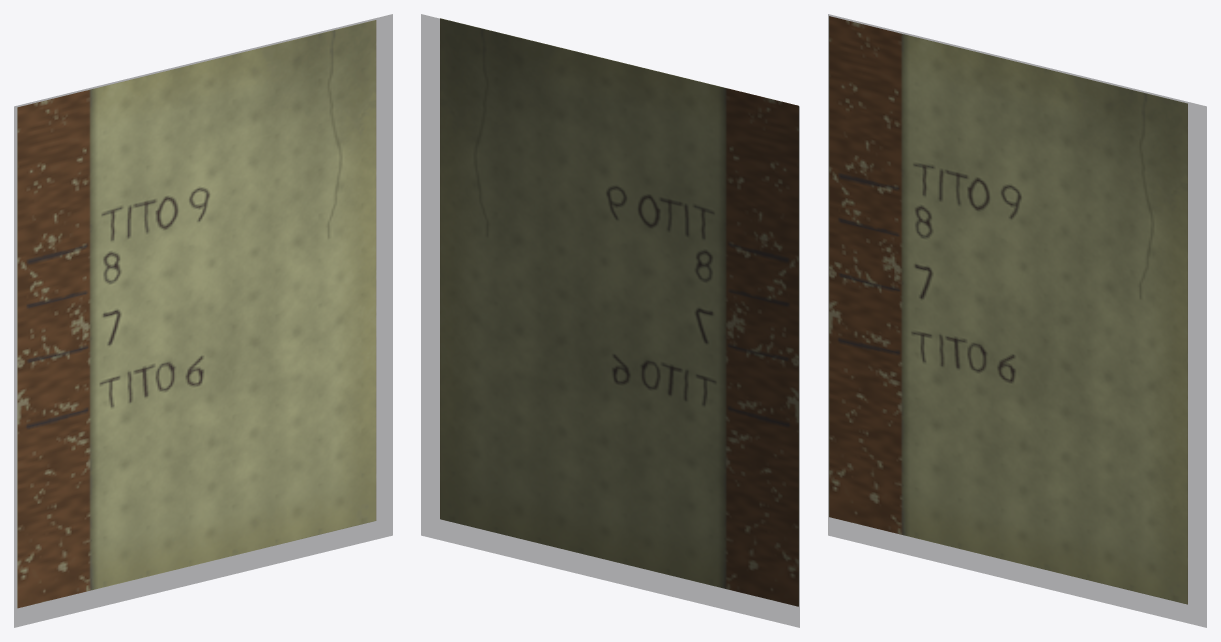
The model's file is marcas_altura.glb.
3 renders of one model, left to right at view 1: azimuth 30°, elevation 25°; view 2: azimuth 150°, elevation 25°; view 3: azimuth 330°, elevation 25°, orthographic.
Parts seen in each view (by area): view 1: _MeshInstance3D_2555_0, _MeshInstance3D_2554_1; view 2: _MeshInstance3D_2554_1, _MeshInstance3D_2555_0; view 3: _MeshInstance3D_2555_0, _MeshInstance3D_2554_1.
Part boxes in pixels (bbox=[...]): _MeshInstance3D_2555_0: bbox=[17, 20, 376, 608]; _MeshInstance3D_2554_1: bbox=[14, 14, 392, 627]; _MeshInstance3D_2554_1: bbox=[421, 14, 799, 627]; _MeshInstance3D_2555_0: bbox=[440, 18, 798, 606]; _MeshInstance3D_2555_0: bbox=[829, 16, 1187, 604]; _MeshInstance3D_2554_1: bbox=[828, 14, 1206, 627].
Bounding box in the file's own units: 0.58 × 0.7633 × 0.003.
Materials: 2 (1 with a texture image).
